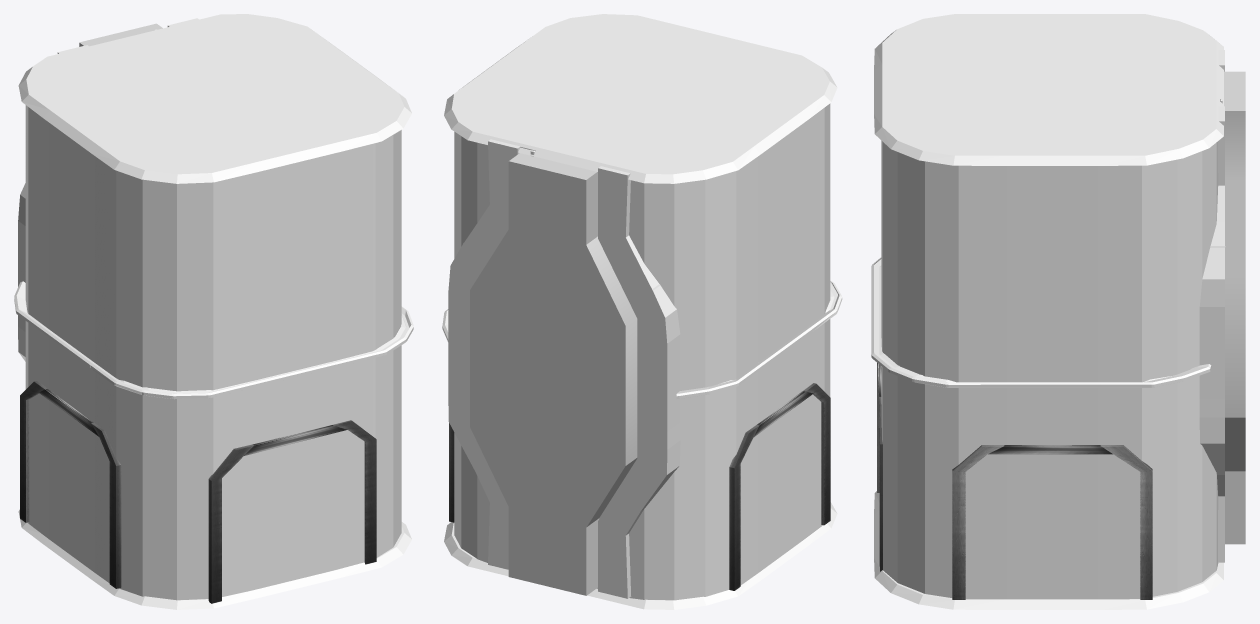
File: edited elevator.fbx
The picture shows the model from 3 angles, left to right: view 1: azimuth 30°, elevation 25°; view 2: azimuth 150°, elevation 25°; view 3: azimuth 270°, elevation 25°; orthographic projection. The views are drawn at different scales.
Parts seen in each view (by area): view 1: pCube16, Cutter.001; view 2: pCube16, Cutter.001; view 3: pCube16, Cutter.001.
Boxes of the visible parts, left/top/right/bottom form: pCube16: left=14, top=14, right=413, bottom=609; Cutter.001: left=79, top=23, right=162, bottom=46; pCube16: left=442, top=14, right=842, bottom=609; Cutter.001: left=470, top=153, right=637, bottom=595; pCube16: left=871, top=14, right=1225, bottom=609; Cutter.001: left=1224, top=71, right=1245, bottom=544.
Size of the model in its own units: 6.93 by 9.7 by 7.3.
Materials: 7 (1 with a texture image).
